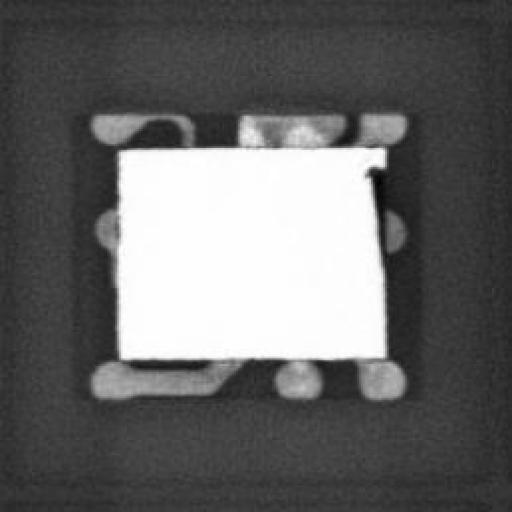DIE_BROKEN: (363, 160, 385, 266)
